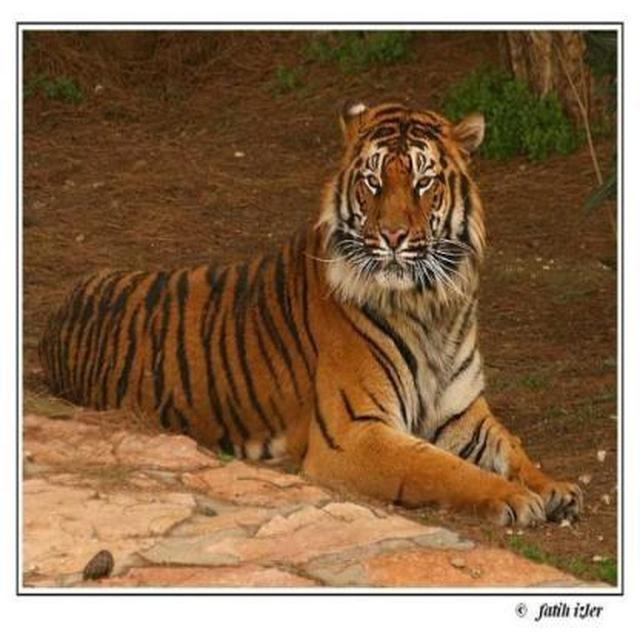tiger: (35, 97, 584, 530)
